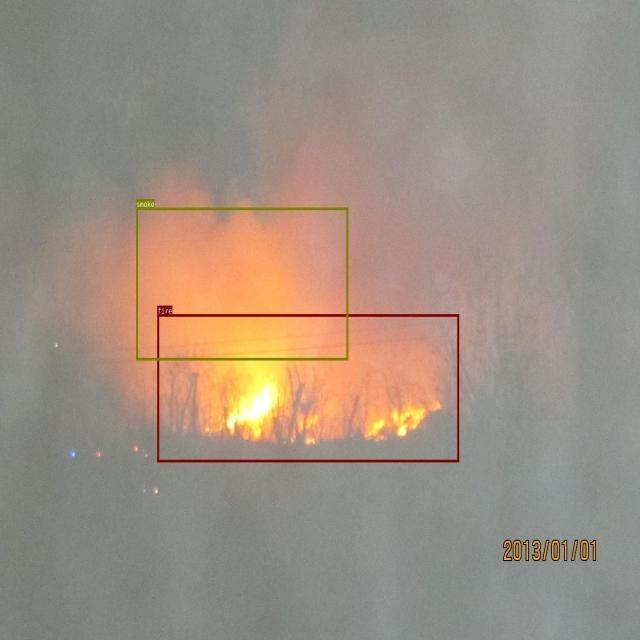fire: (157, 314, 459, 462)
smoke: (136, 207, 348, 360)
